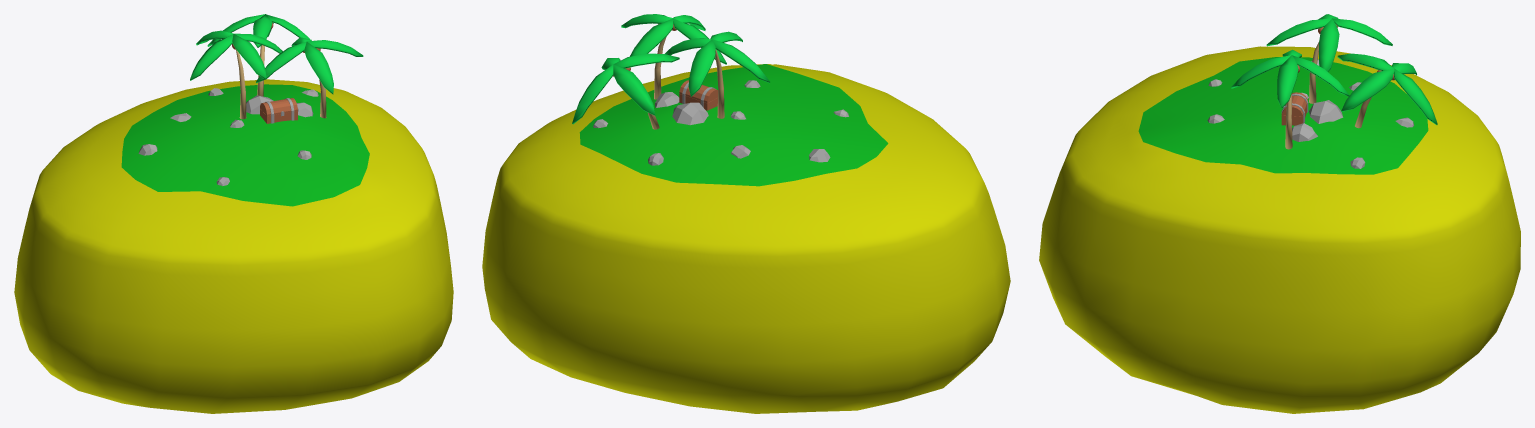
File: Island.fbx
3 views of the same model, side by side, from view 1: azimuth 30°, elevation 25°; view 2: azimuth 150°, elevation 25°; view 3: azimuth 270°, elevation 25° (orthographic). The views are drawn at different scales.
Visible parts, largest first — view 1: Cube.010; view 2: Cube.010; view 3: Cube.010.
Boxes of the visible parts, x1,y1,x2,y2 form: Cube.010: (14, 14, 453, 413); Cube.010: (482, 14, 1010, 413); Cube.010: (1039, 14, 1520, 413).
Bounding box in the file's own units: 1722 × 1263 × 1662.
